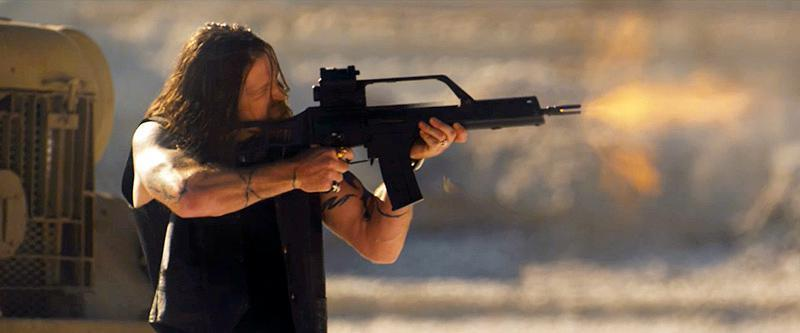gun: (199, 60, 592, 214)
